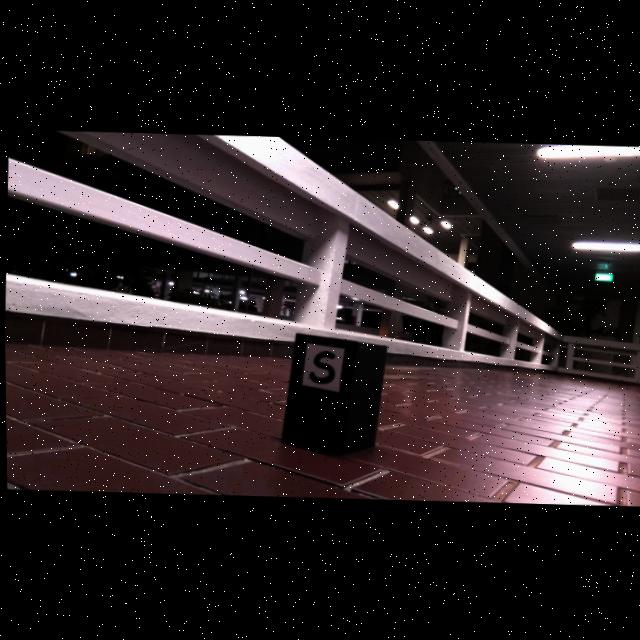S: (307, 351, 333, 384)
